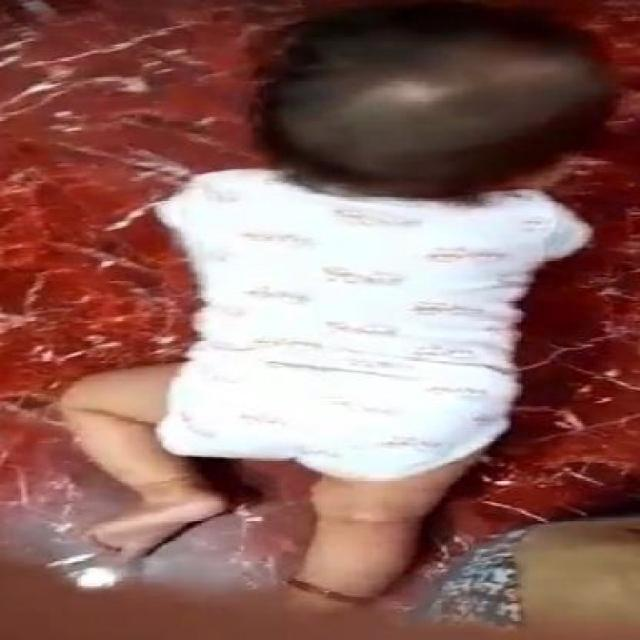child: (62, 0, 608, 600)
